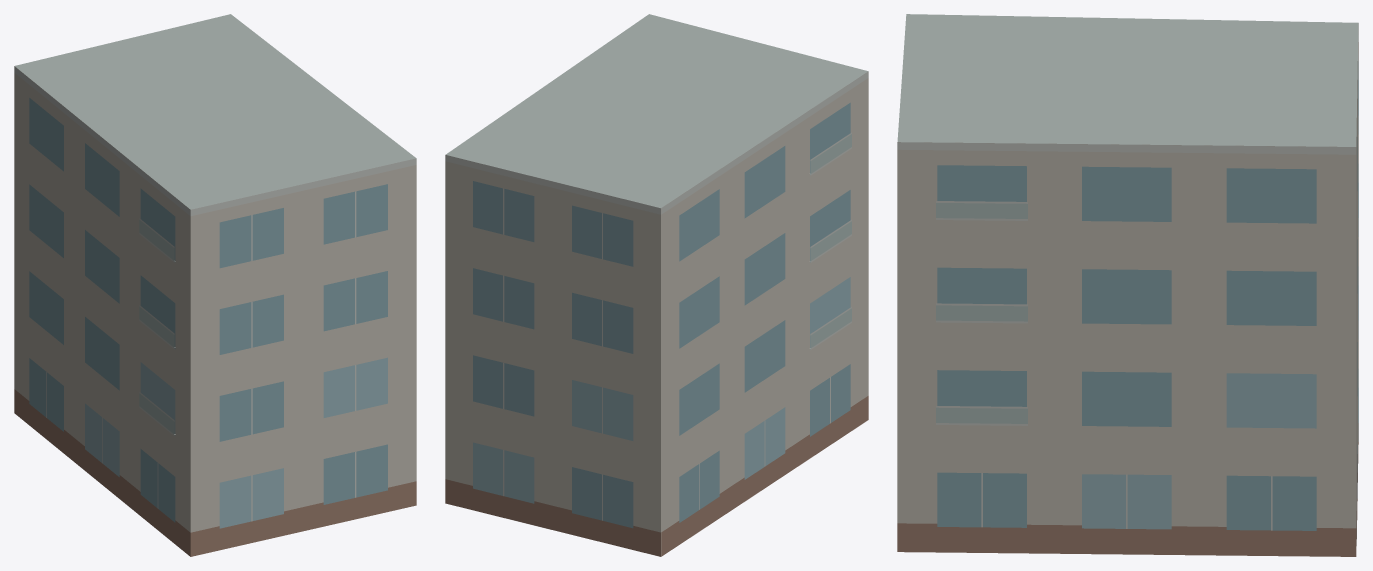
Rendered from survey-upis-32620785.glb.
The picture shows the model from 3 angles, left to right: view 1: azimuth 30°, elevation 25°; view 2: azimuth 150°, elevation 25°; view 3: azimuth 270°, elevation 25°; orthographic projection. The views are drawn at different scales.
Visible parts, largest first — view 1: survey-upis-32620785.tmp; view 2: survey-upis-32620785.tmp; view 3: survey-upis-32620785.tmp.
Part boxes in pixels (x1,y1,x2,y2): survey-upis-32620785.tmp: [14, 14, 416, 556]; survey-upis-32620785.tmp: [445, 14, 868, 556]; survey-upis-32620785.tmp: [897, 14, 1358, 556].
Bounding box in the file's own units: 9.05 × 13 × 13.26.
